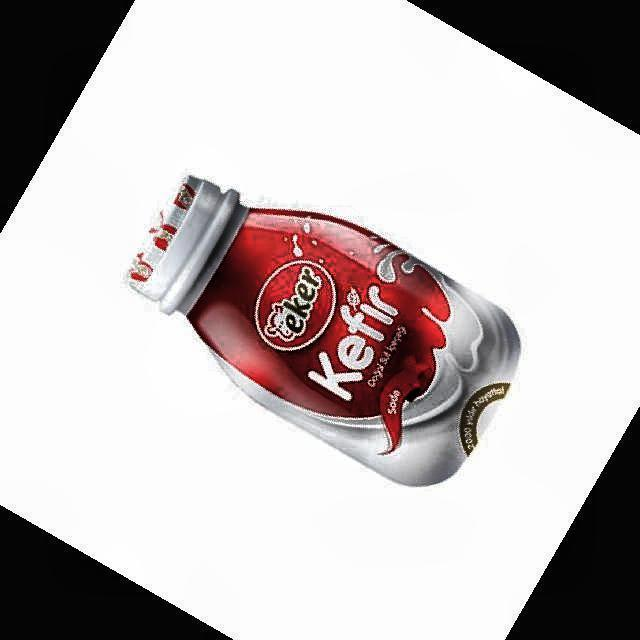plastic: (130, 176, 520, 486)
